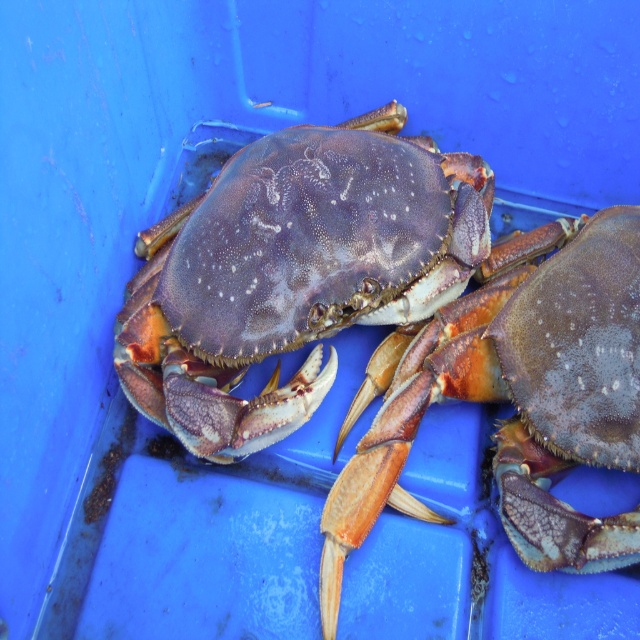Crab: (113, 98, 495, 465), (319, 205, 640, 640)
